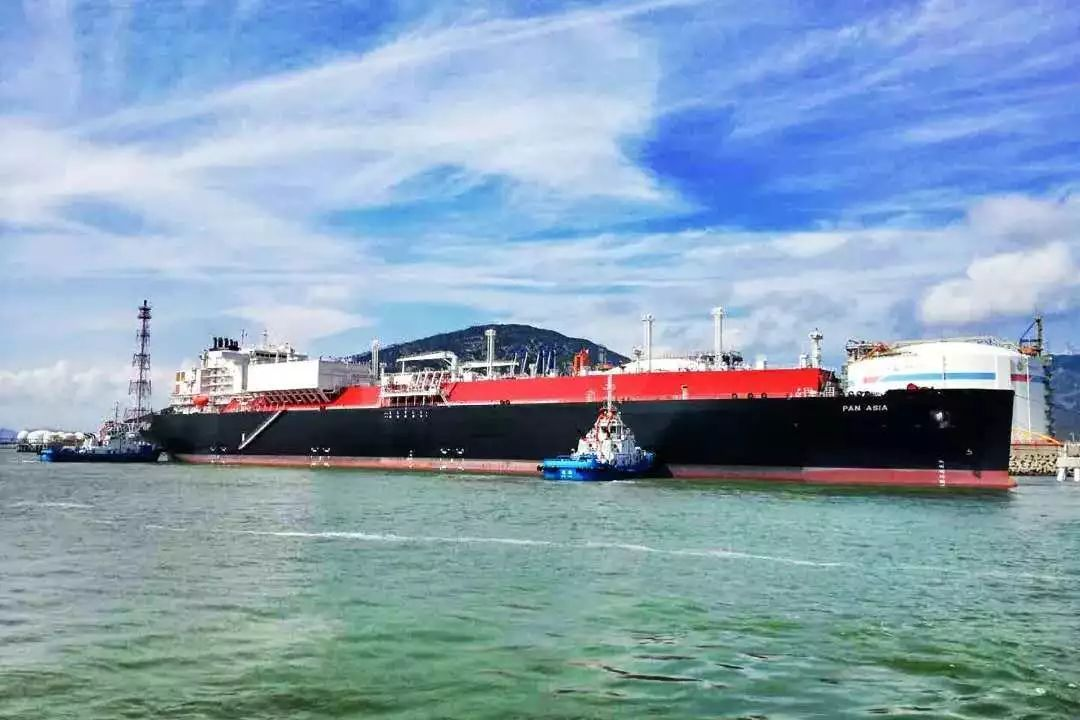Cargoship: (159, 313, 1025, 490)
otherboat: (542, 395, 660, 485), (34, 396, 161, 468)
